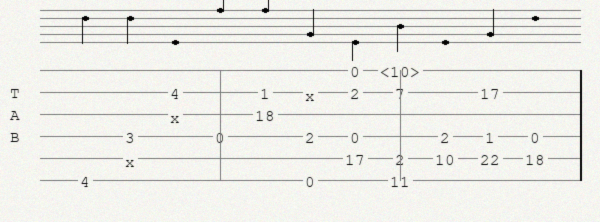0: (215, 129, 229, 143), (305, 173, 319, 187), (350, 63, 364, 77), (350, 129, 364, 143), (530, 129, 544, 143)
1: (260, 85, 274, 99), (485, 129, 499, 143)
10: (435, 151, 459, 165)
11: (390, 173, 414, 187)
17: (345, 151, 369, 165), (480, 85, 504, 99)
18: (255, 107, 279, 121), (525, 151, 549, 165)
2: (305, 129, 319, 143), (350, 85, 364, 99), (395, 151, 409, 165), (440, 129, 454, 143)
22: (480, 151, 504, 165)
3: (125, 129, 139, 143)
4: (80, 173, 94, 187), (170, 85, 184, 99)
7: (395, 85, 409, 99)
harmonic: (380, 63, 424, 78)
x: (125, 153, 139, 164), (170, 109, 184, 120), (305, 87, 319, 98)
